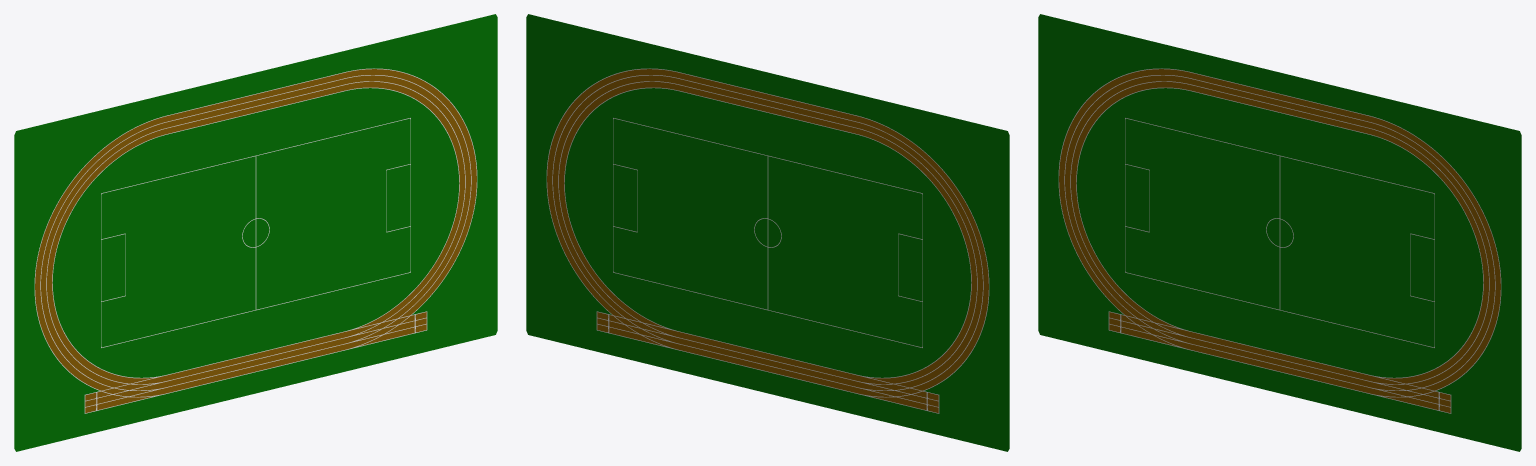
File: stadium.obj
3 views of the same model, side by side, from view 1: azimuth 30°, elevation 25°; view 2: azimuth 150°, elevation 25°; view 3: azimuth 330°, elevation 25° (orthographic).
Parts seen in each view (by area): view 1: stadium_grass, stadium_dirt, stadium_white; view 2: stadium_grass, stadium_dirt, stadium_white; view 3: stadium_grass, stadium_dirt, stadium_white.
Part boxes in pixels (x1,y1,x2,y2): stadium_grass: [14, 14, 497, 451]; stadium_dirt: [35, 69, 476, 412]; stadium_white: [34, 68, 477, 413]; stadium_grass: [526, 14, 1009, 451]; stadium_dirt: [547, 69, 988, 412]; stadium_white: [546, 68, 989, 413]; stadium_grass: [1038, 14, 1521, 451]; stadium_dirt: [1059, 69, 1500, 412]; stadium_white: [1058, 68, 1501, 413].
Bounding box in the file's own units: 82 × 52 × 0.
